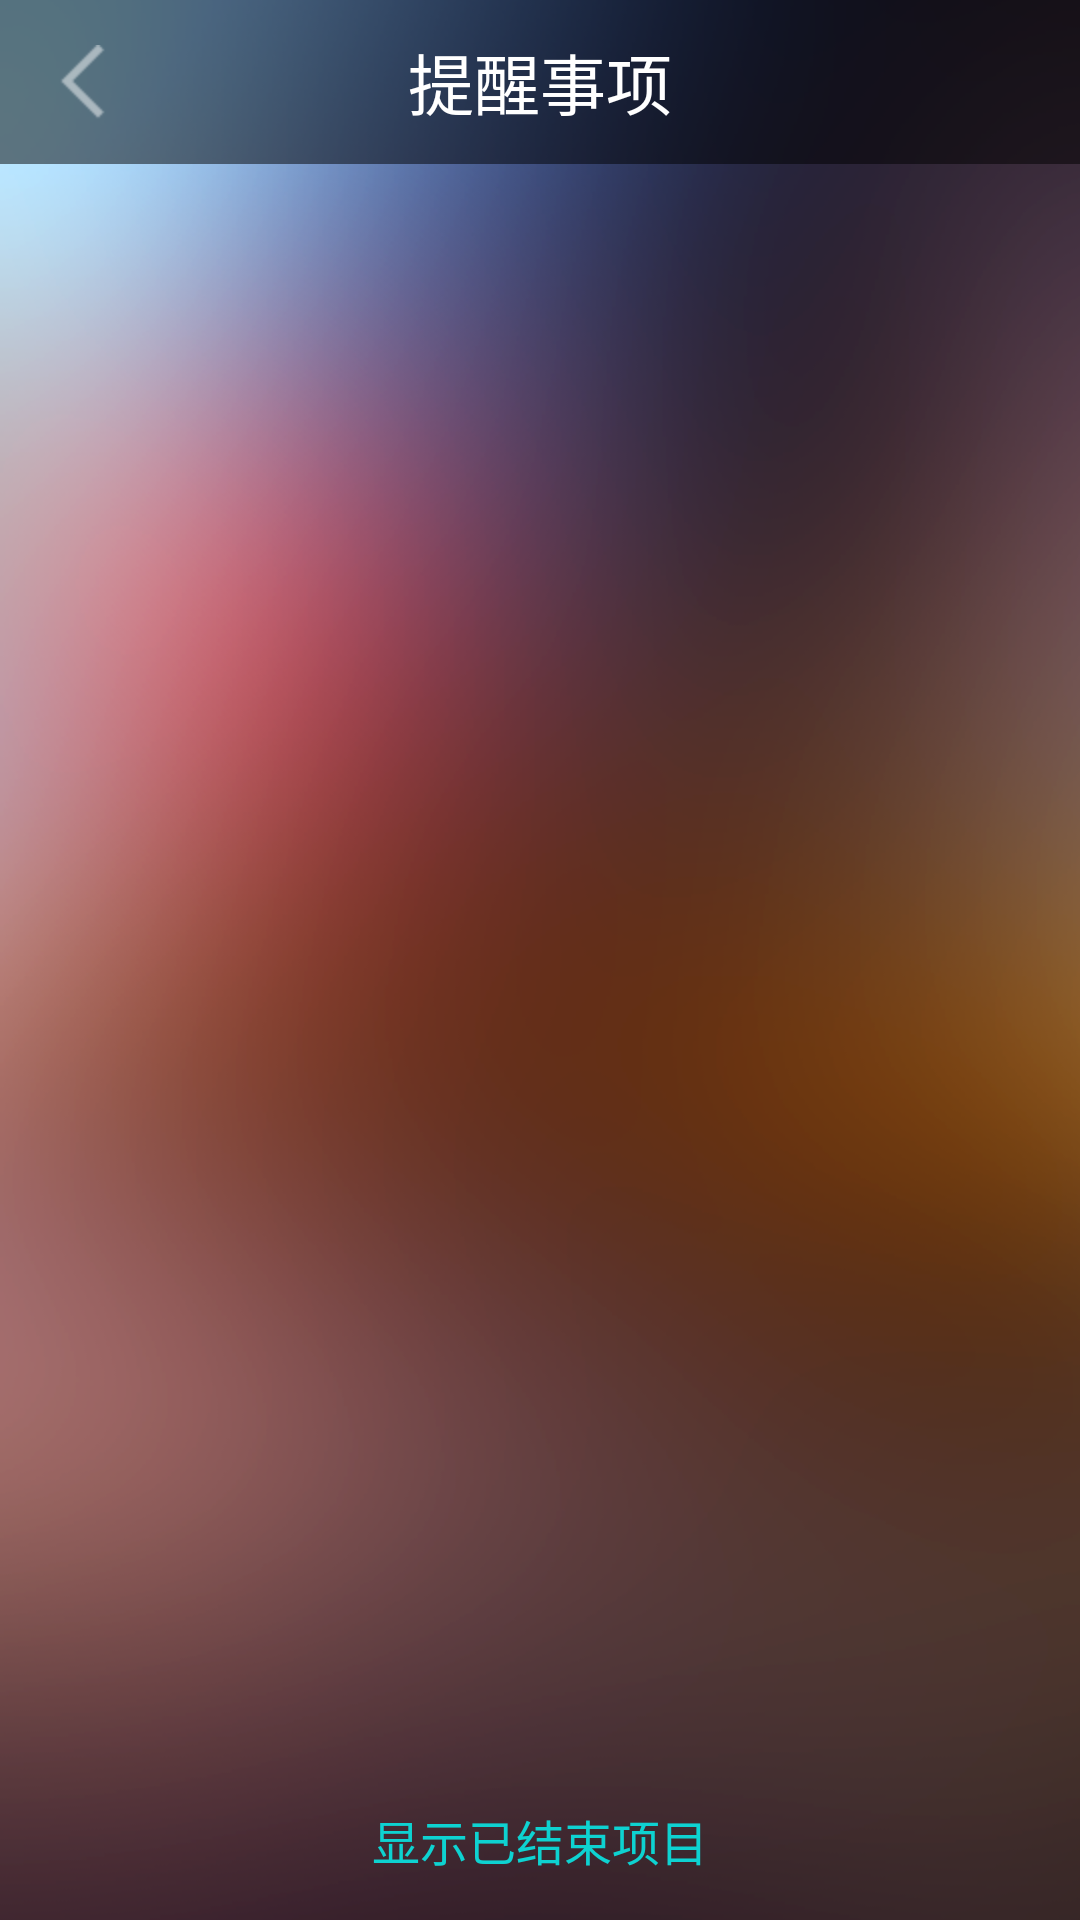

Screen size 1080 × 1920. Icon name, then its center in pixels as (x=x, y=y):
left arrow: (x=84, y=82)
